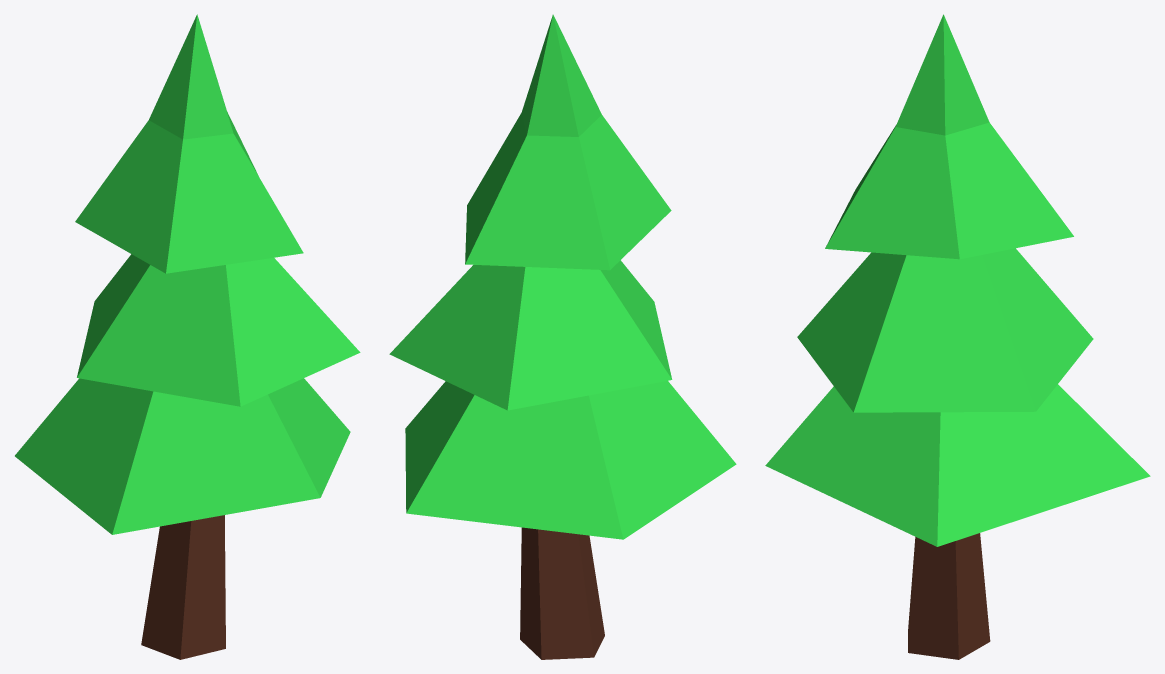
The model's file is ローポリの木.fbx.
3 renders of one model, left to right at view 1: azimuth 30°, elevation 25°; view 2: azimuth 150°, elevation 25°; view 3: azimuth 270°, elevation 25°, orthographic.
Parts seen in each view (by area): view 1: lowpolytree; view 2: lowpolytree; view 3: lowpolytree.
Boxes of the visible parts, x1,y1,x2,y2 form: lowpolytree: (15,14,360,659); lowpolytree: (389,14,736,659); lowpolytree: (765,14,1150,659).
Bounding box in the file's own units: 1.81 × 3.8 × 2.1.
